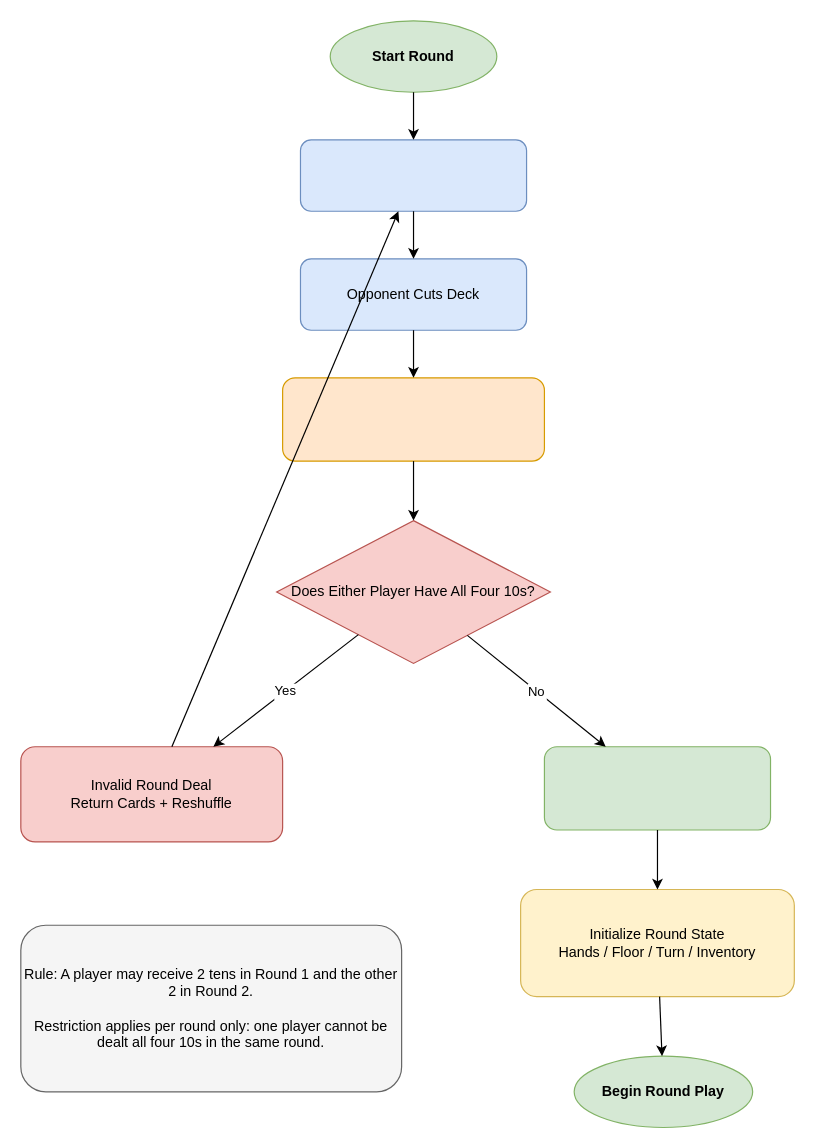
This 815x1148 diagram has some shape labels left out. The centre of each missing label's shape, as x and y in pixels:
"Accept Round Deal" belongs at (657,788).
"Deal 10 Cards to Each Player" belongs at (412,419).
"Shuffle 40-Card Deck" belongs at (413,175).
